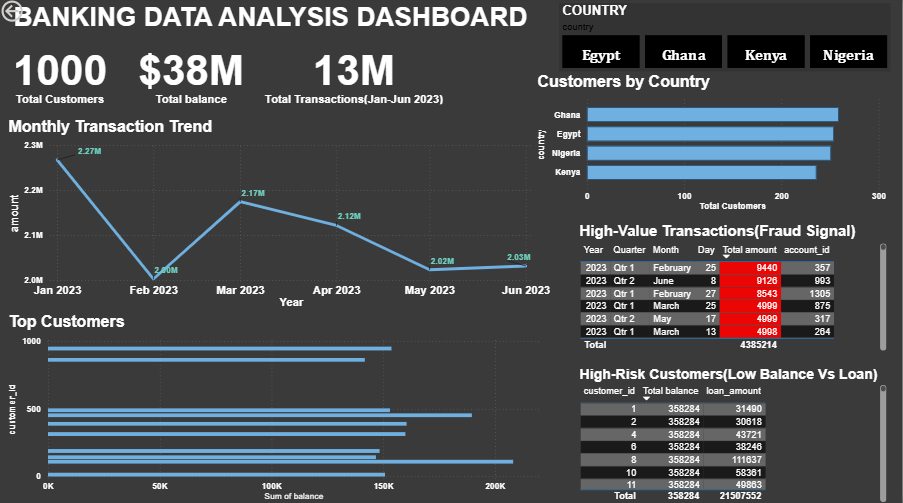

This screenshot's page, from the dashboard's own definition file:
{"tool":"powerbi","page":{"name":"Data Visualizations","canvas":[1280,720],"ordinal":0},"visuals":[{"type":"card","fields":{"Values":["accounts.Total Customers"]},"box":[10.1,58.8,156.2,99.1],"z":0},{"type":"card","fields":{"Values":["Sum(accounts.balance)"]},"box":[179.7,58.8,188.1,99.1],"z":1000},{"type":"card","fields":{"Values":["Sum(transactions.amount)"]},"box":[368.5,58.1,272.1,99.2],"z":2000},{"type":"lineChart","title":"Monthly Transaction Trend","fields":{"Y":["Sum(transactions.amount)"],"Category":["transactions.transaction_date.Variation.Date Hierarchy.Year","transactions.transaction_date.Variation.Date Hierarchy.Quarter","transactions.transaction_date.Variation.Date Hierarchy.Month"]},"box":[9.9,170.1,778.1,276.4],"z":3000},{"type":"barChart","title":"Top Customers","fields":{"Category":["customers.customer_id"],"Y":["Sum(accounts.balance)"]},"box":[9.9,446.5,778.1,273.5],"z":4000},{"type":"clusteredBarChart","title":" Customers by Country","fields":{"Category":["customers.country"],"Y":["accounts.Total Customers"]},"box":[759.7,106.3,504.6,202.7],"z":5000},{"type":"tableEx","title":"High-Value Transactions(Fraud Signal)","fields":{"Values":["transactions.transaction_date.Variation.Date Hierarchy.Year","transactions.transaction_date.Variation.Date Hierarchy.Quarter","transactions.transaction_date.Variation.Date Hierarchy.Month","transactions.transaction_date.Variation.Date Hierarchy.Day","Sum(transactions.amount)","transactions.account_id","select"]},"box":[819.7,320.8,445.1,186.5],"z":6000},{"type":"tableEx","title":"High-Risk Customers(Low Balance Vs Loan)","fields":{"Values":["loans.customer_id","Sum(accounts.balance)","Sum(loans.loan_amount)"]},"box":[819.7,522.4,445.1,198.2],"z":7000},{"type":"advancedSlicerVisual","title":"COUNTRY","fields":{"Values":["customers.country"]},"box":[794.5,8.4,470.3,97.4],"z":8000},{"type":"textbox","box":[16.8,1.7,742.5,57.1],"z":9000},{"type":"actionButton","box":[0,0,100,40],"z":10000}]}

Visuals, with their boxes in screenshot pixels (x1, y1, x2, y2), scaled from the page's 1280x720 canvas onto the 903x503 screenshot:
card - accounts.Total Customers: [7,41,117,110]
card - Sum(accounts.balance): [127,41,259,110]
card - Sum(transactions.amount): [260,41,452,110]
"Monthly Transaction Trend" lineChart: [7,119,556,312]
"Top Customers" barChart: [7,312,556,502]
" Customers by Country" clusteredBarChart: [536,74,892,216]
"High-Value Transactions(Fraud Signal)" tableEx: [578,224,892,354]
"High-Risk Customers(Low Balance Vs Loan)" tableEx: [578,365,892,502]
"COUNTRY" advancedSlicerVisual: [560,6,892,74]
textbox: [12,1,536,41]
actionButton: [0,0,71,28]
